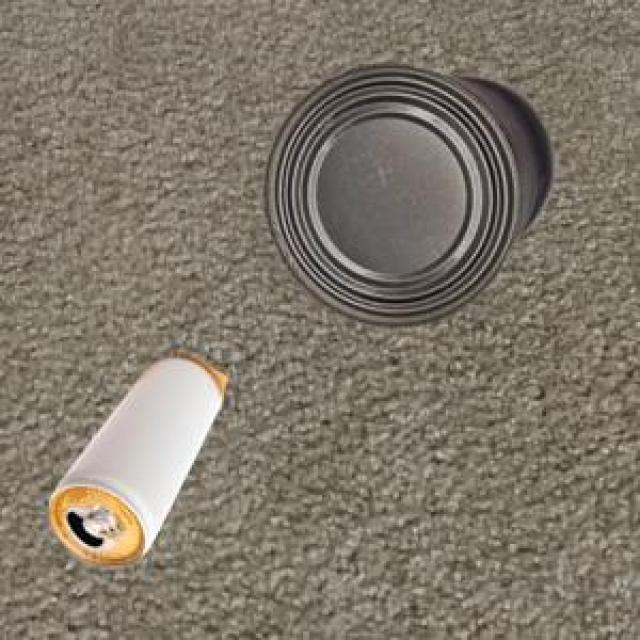logam: (261, 61, 551, 325), (46, 353, 223, 564)
